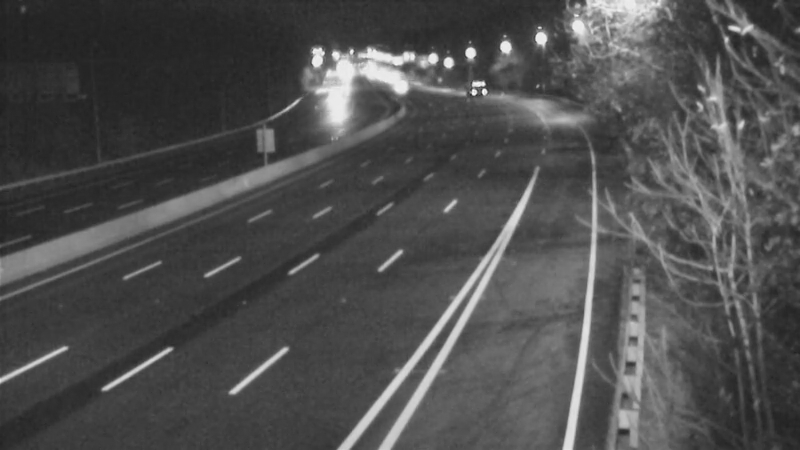vehicle: (443, 62, 493, 112), (375, 63, 425, 113), (306, 77, 356, 127)
